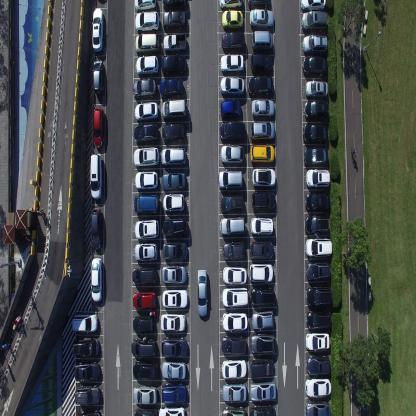car: (302, 54, 328, 79), (132, 145, 160, 168), (90, 255, 103, 303), (133, 121, 159, 145), (133, 263, 158, 287), (162, 215, 187, 239), (196, 268, 208, 318), (161, 335, 187, 358), (161, 382, 187, 405), (161, 97, 187, 120), (301, 10, 328, 32), (90, 153, 102, 201), (134, 218, 159, 241), (251, 190, 276, 213), (75, 383, 100, 406), (218, 168, 243, 191), (249, 333, 275, 355), (221, 310, 247, 332), (161, 263, 187, 285), (162, 240, 188, 262), (221, 359, 247, 381), (161, 146, 187, 168), (74, 361, 100, 383), (306, 286, 332, 308), (302, 33, 328, 55), (219, 75, 245, 97), (248, 75, 274, 97), (249, 382, 276, 403), (219, 215, 246, 236), (305, 238, 332, 259), (160, 53, 187, 74), (92, 6, 104, 53), (218, 121, 246, 141), (220, 334, 245, 356), (304, 192, 329, 214), (306, 354, 331, 376), (161, 9, 186, 31), (134, 10, 159, 32), (222, 286, 248, 307), (305, 170, 331, 191), (303, 124, 329, 145), (134, 193, 160, 214), (221, 143, 244, 166), (134, 241, 158, 263), (252, 167, 276, 189), (91, 207, 103, 251), (93, 105, 105, 149), (132, 77, 156, 99), (132, 384, 157, 405), (249, 358, 274, 379), (222, 265, 247, 286), (250, 143, 275, 164), (249, 120, 274, 141), (220, 30, 245, 51), (249, 8, 274, 29), (162, 288, 188, 308), (160, 312, 186, 332), (73, 338, 99, 358), (306, 310, 332, 330), (305, 331, 331, 351), (132, 360, 159, 379), (305, 379, 332, 398), (250, 215, 273, 237), (305, 79, 328, 101), (162, 121, 184, 144), (219, 98, 242, 120), (162, 172, 186, 193), (132, 290, 156, 311), (161, 360, 185, 381), (159, 76, 183, 97), (163, 32, 187, 53), (220, 52, 244, 73), (131, 338, 156, 358), (222, 384, 247, 404), (249, 262, 274, 282), (220, 194, 245, 214), (72, 314, 98, 333), (250, 288, 276, 307), (223, 240, 245, 262), (136, 54, 158, 76), (250, 52, 272, 74), (135, 169, 158, 190), (250, 240, 274, 260), (304, 148, 328, 168), (304, 102, 328, 122), (305, 216, 329, 236), (307, 262, 331, 282), (134, 100, 158, 120), (252, 30, 274, 51), (251, 99, 275, 118), (92, 58, 104, 95), (163, 193, 184, 214), (252, 310, 274, 330), (221, 10, 244, 29), (135, 33, 159, 51), (132, 314, 154, 333), (305, 400, 331, 416), (249, 404, 277, 415), (300, 0, 326, 11), (158, 405, 186, 415), (221, 405, 247, 415), (134, 0, 157, 11), (134, 406, 158, 416), (219, 0, 243, 10), (247, 0, 272, 8), (162, 0, 187, 8), (78, 408, 102, 415)
